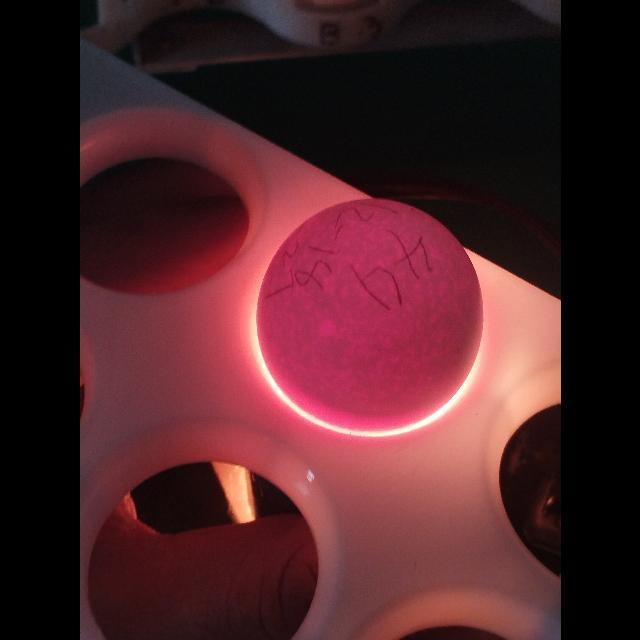Infertile: (252, 193, 486, 439)
